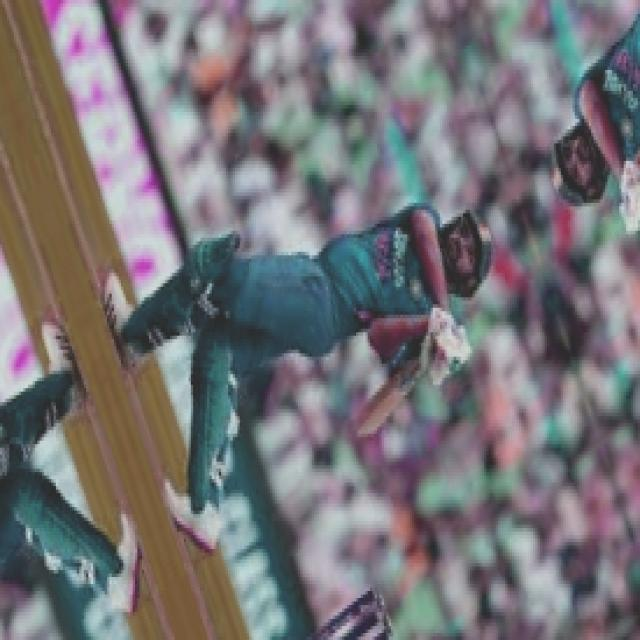toe: (351, 403, 375, 447)
